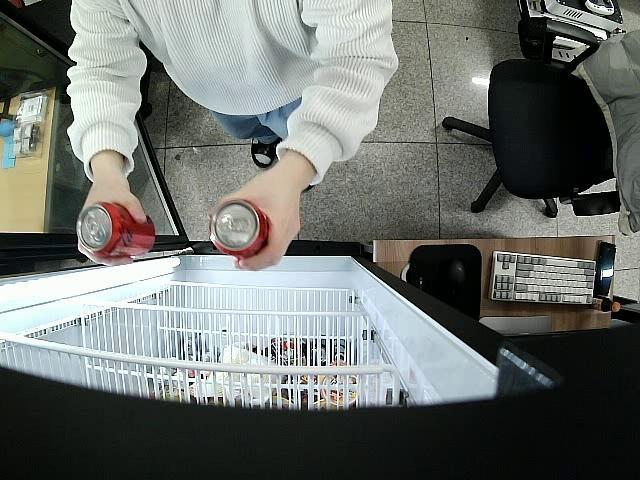11_cocaColaZero: (74, 202, 156, 262), (208, 198, 268, 257)
